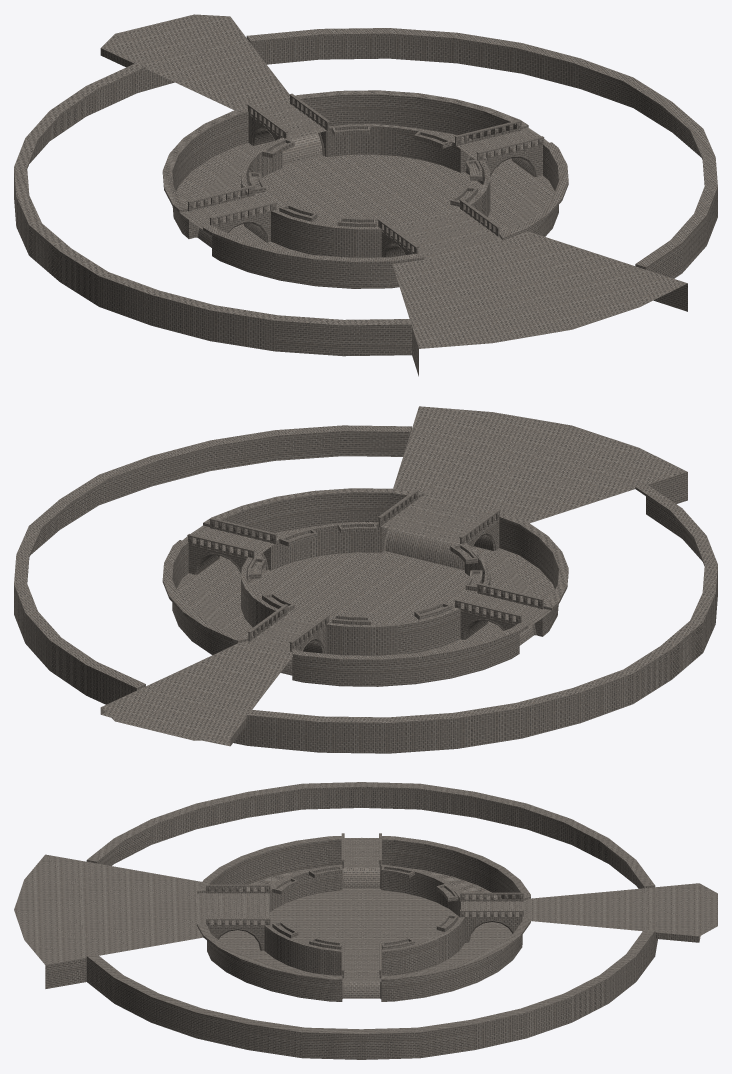
File: Square.fbx
The picture shows the model from 3 angles, top to bottom: view 1: azimuth 30°, elevation 25°; view 2: azimuth 150°, elevation 25°; view 3: azimuth 270°, elevation 25°; orthographic projection. The views are drawn at different scales.
Visible parts, largest first — view 1: Square; view 2: Square; view 3: Square.
Part boxes in pixels (x1,y1,x2,y2): Square: (14, 14, 717, 376); Square: (14, 406, 717, 753); Square: (14, 782, 717, 1059).
Size of the model in its own units: 12554 by 746 by 14820.
Materials: 1 (1 with a texture image).
